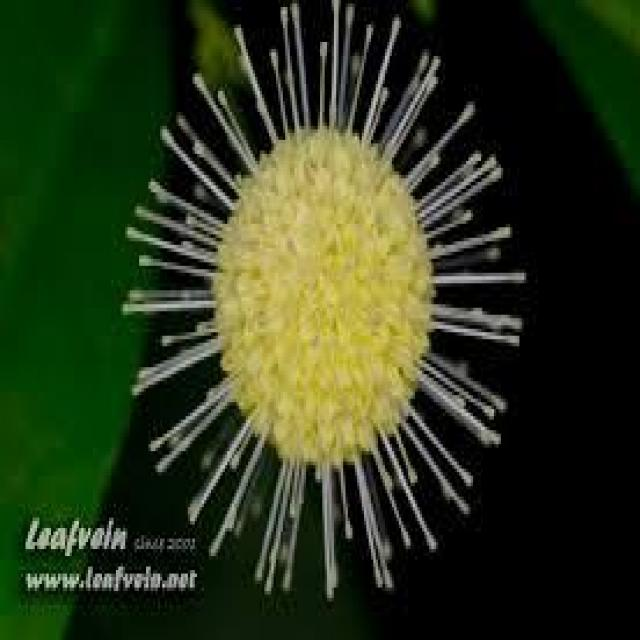organic waste: (112, 7, 520, 598)
